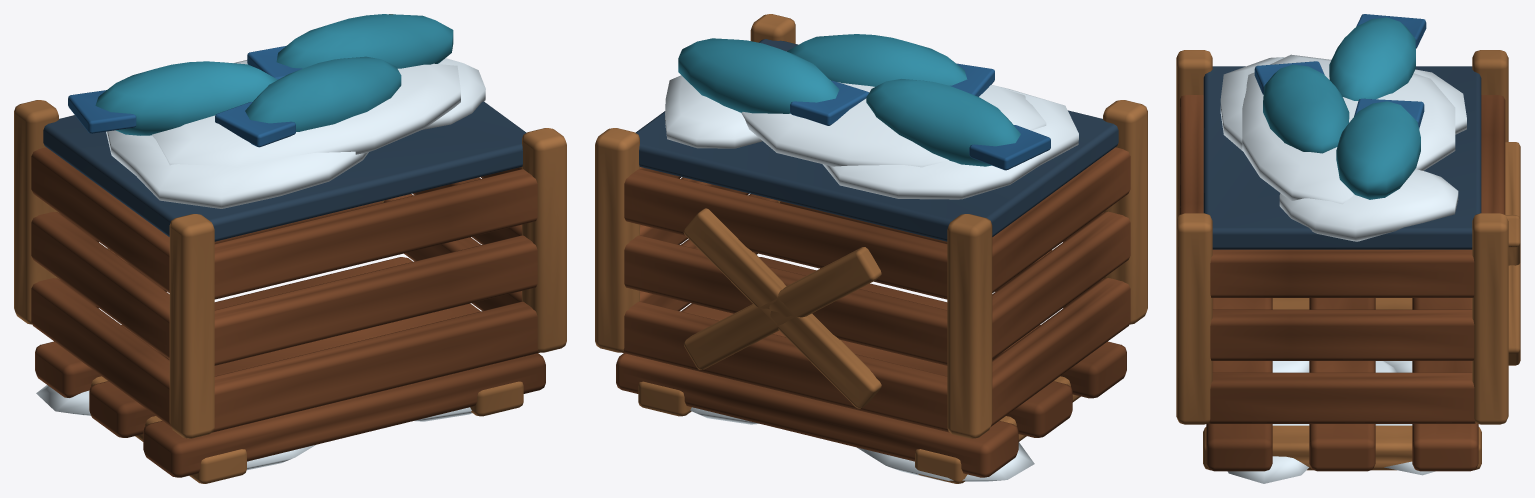
The model's file is fish_crate.glb.
3 views of the same model, side by side, from view 1: azimuth 30°, elevation 25°; view 2: azimuth 150°, elevation 25°; view 3: azimuth 270°, elevation 25° (orthographic). The views are drawn at different scales.
Parts seen in each view (by area): view 1: fish_crate; view 2: fish_crate; view 3: fish_crate.
Boxes of the visible parts, x1,y1,x2,y2 form: fish_crate: (14,14,566,483); fish_crate: (595,14,1147,483); fish_crate: (1176,14,1520,483).
Size of the model in its own units: 1.45 by 1.21 by 1.14.
